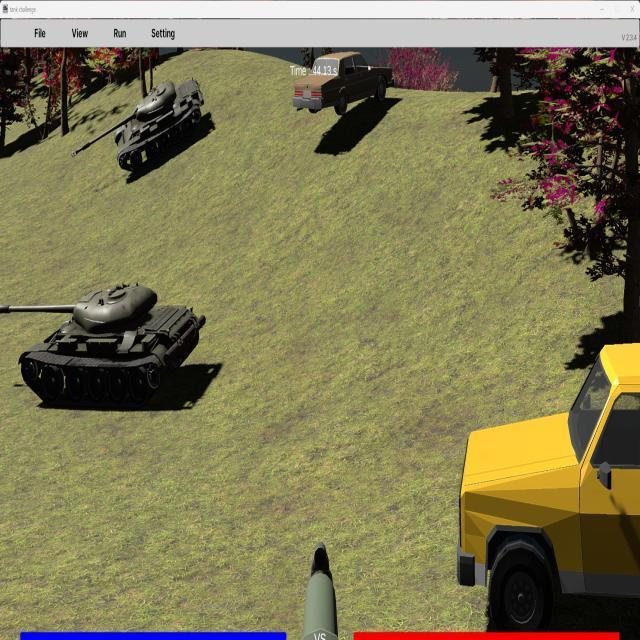Tank: (0, 281, 206, 409), (73, 77, 205, 172)
car: (455, 342, 640, 629), (292, 51, 394, 116)
